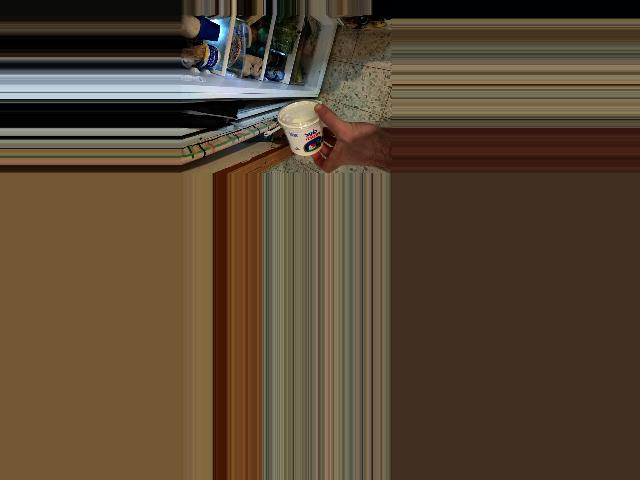cotage: (276, 112, 328, 155)
